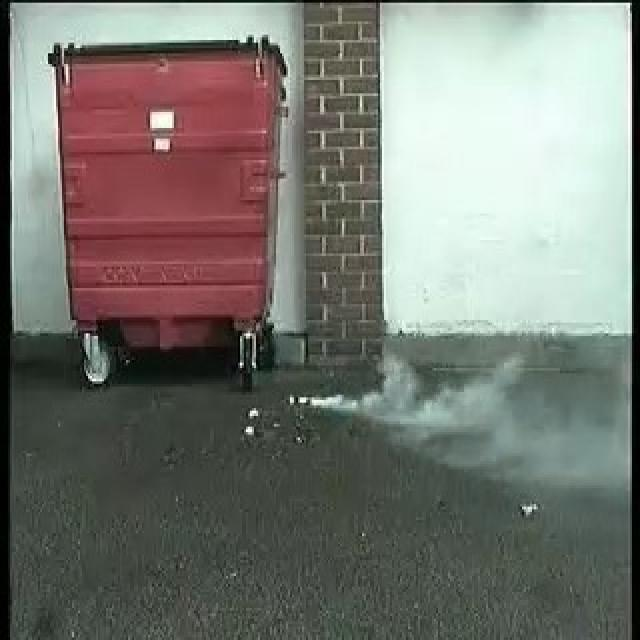smoke: (313, 331, 536, 457)
